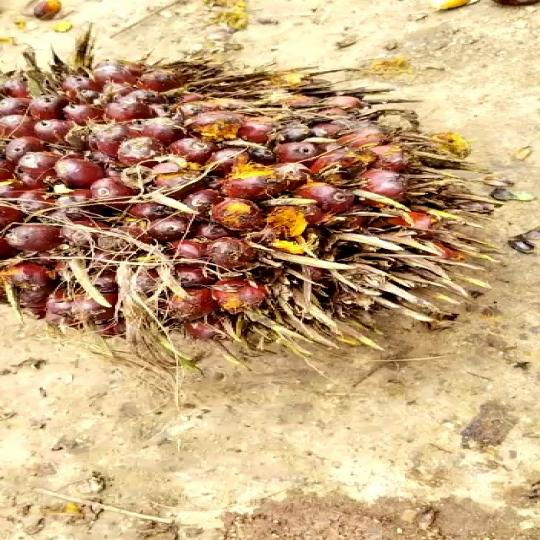masak: (0, 41, 473, 357)
